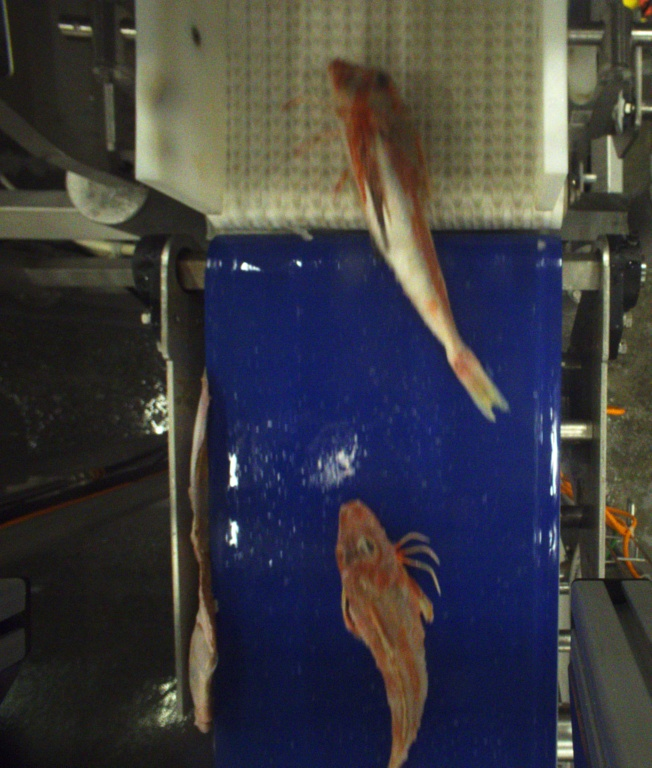GUU: (327, 55, 510, 424)
